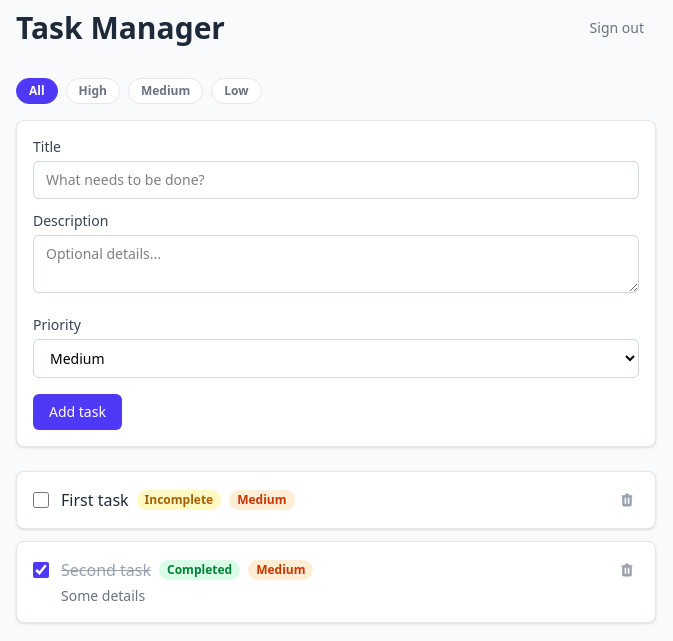
it: App › removes a task from the list after delete (optimistic)
Check: the text "First task" is shown, box top-left (61, 488), bottom-right (129, 512)
Click the button named "delete" in the row of "Incomplete".
click(627, 500)  # box top-left (615, 488), bottom-right (639, 512)
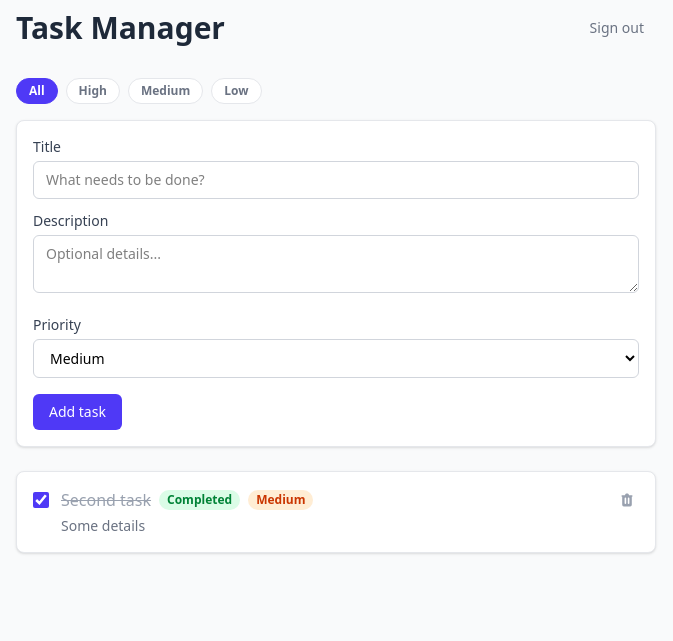
Check: the text "First task" is gone
